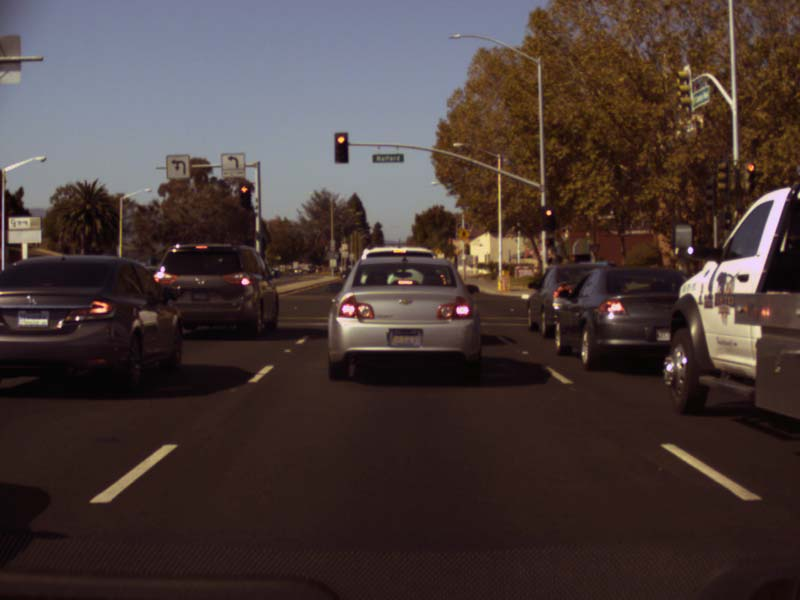Red: (334, 131, 348, 164), (540, 205, 554, 230), (238, 182, 251, 207)
